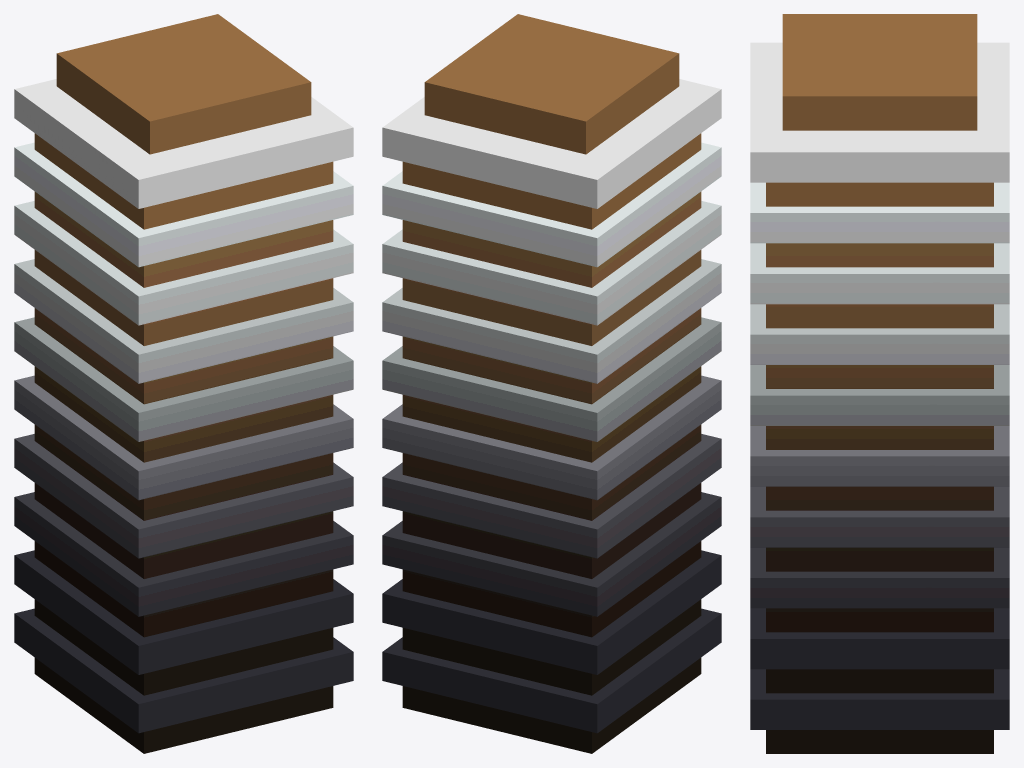
The model's file is SM_Building_Tall_2.fbx.
The picture shows the model from 3 angles, left to right: view 1: azimuth 30°, elevation 25°; view 2: azimuth 150°, elevation 25°; view 3: azimuth 270°, elevation 25°; orthographic projection. The views are drawn at different scales.
Visible parts, largest first — view 1: Building_Tall_2; view 2: Building_Tall_2; view 3: Building_Tall_2.
Part boxes in pixels (box(x1,y1,x2,y2)): Building_Tall_2: box(14, 14, 353, 753); Building_Tall_2: box(382, 14, 721, 753); Building_Tall_2: box(750, 14, 1009, 753).
Size of the model in its own units: 9.42 by 26.09 by 9.42.
